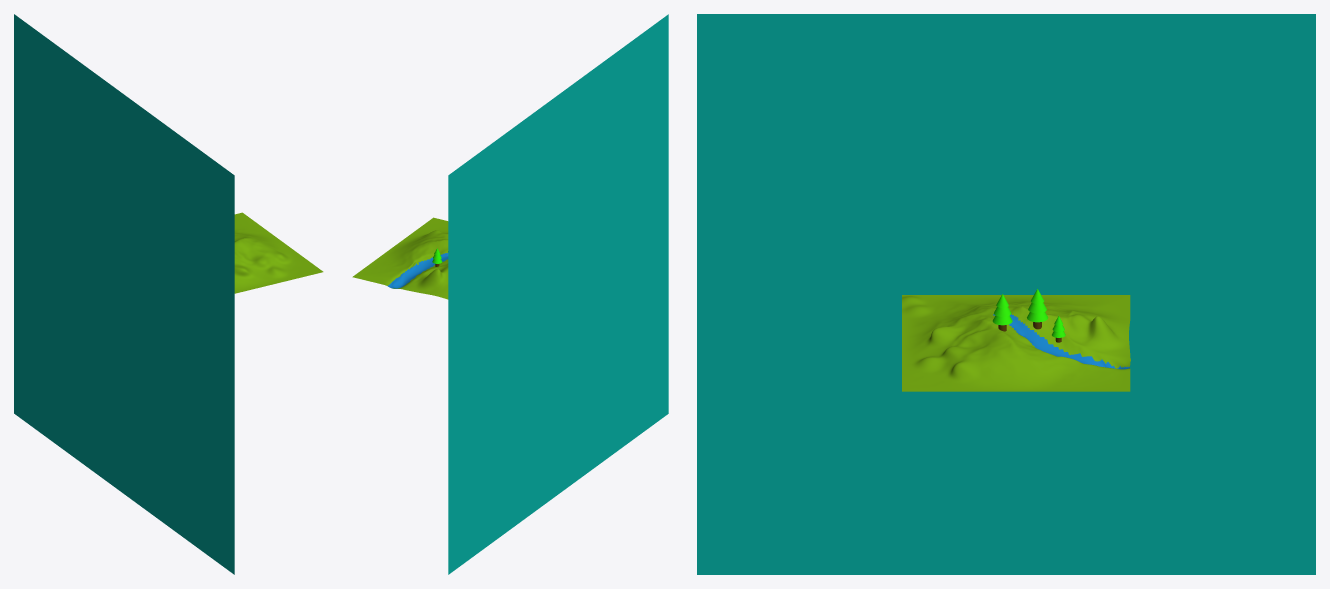
File: changjing.fbx
3 renders of one model, left to right at view 1: azimuth 30°, elevation 25°; view 2: azimuth 150°, elevation 25°; view 3: azimuth 270°, elevation 25°, orthographic. The views are drawn at different scales.
Visible parts, largest first — view 1: 平面, 地形; view 2: 平面, 地形; view 3: 平面, 地形.
Part boxes in pixels (x1,y1,x2,y2): 平面: (14,14,234,574); 地形: (234,212,323,293); 平面: (448,14,668,574); 地形: (352,217,448,299); 平面: (697,14,1315,574); 地形: (902,295,1130,391).
Bounding box in the file's own units: 14822 × 34869 × 34869.
